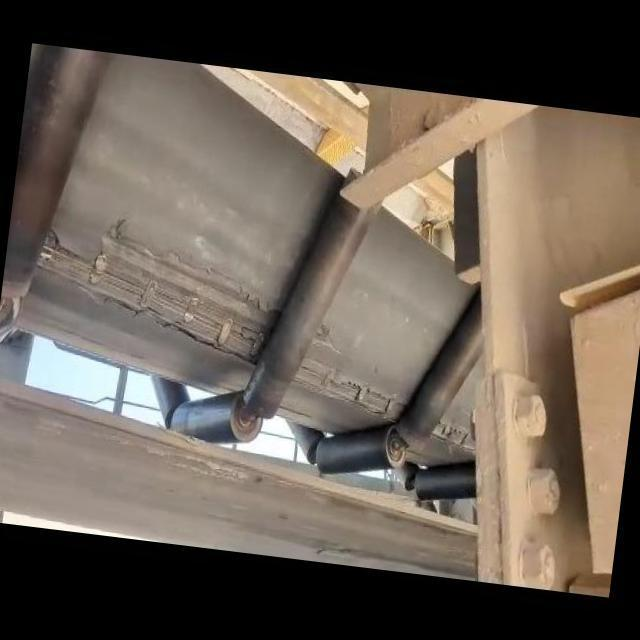Tear: (24, 192, 300, 377), (302, 359, 410, 428)
Wear: (314, 316, 344, 360)
